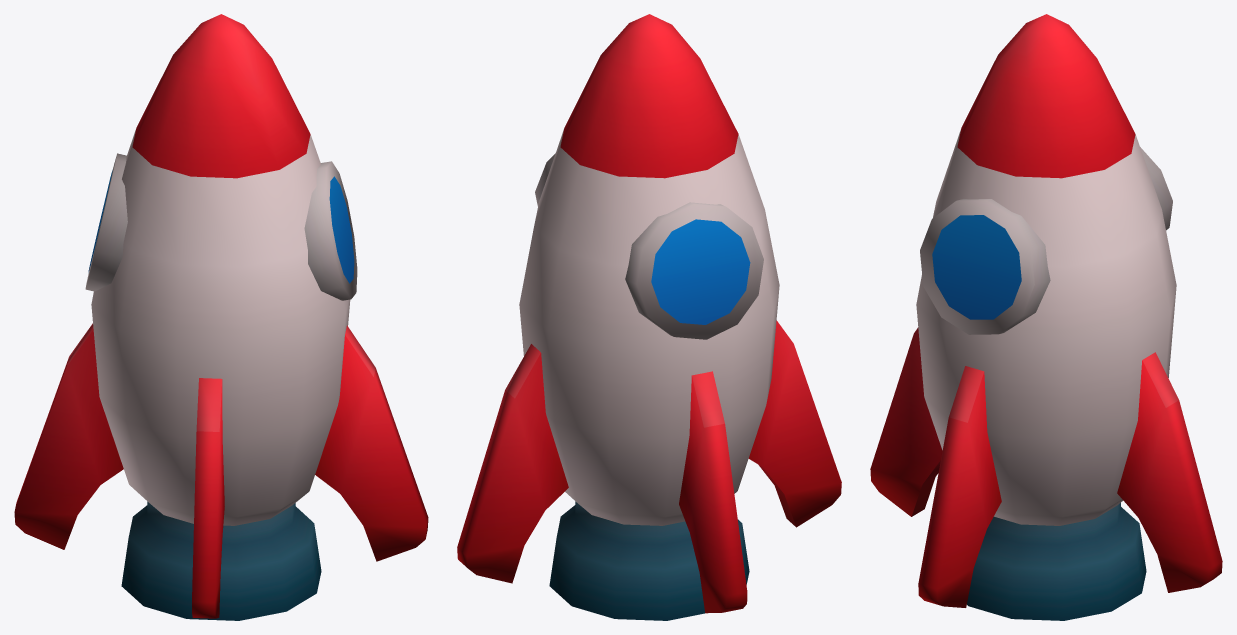
Rendered from Rocket.fbx.
3 renders of one model, left to right at view 1: azimuth 30°, elevation 25°; view 2: azimuth 150°, elevation 25°; view 3: azimuth 270°, elevation 25°, orthographic.
Parts seen in each view (by area): view 1: Rocket; view 2: Rocket; view 3: Rocket.
Boxes of the visible parts, x1,y1,x2,y2 form: Rocket: (14,14,428,620); Rocket: (457,14,841,620); Rocket: (870,14,1222,620).
Size of the model in its own units: 1812 by 3207 by 1812.
Materials: 1 (1 with a texture image).
